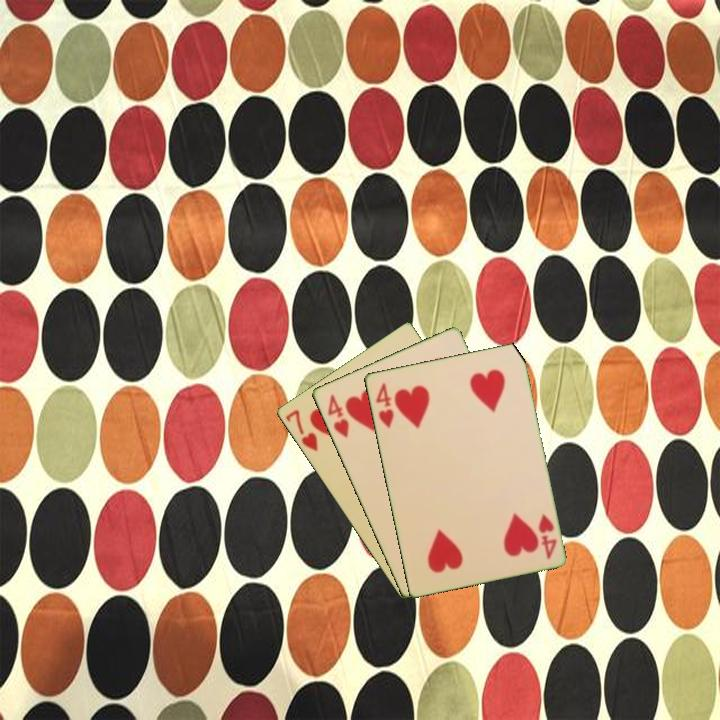4h: (324, 390, 352, 441), (371, 379, 396, 431), (534, 510, 559, 562)
7h: (282, 406, 321, 454)
